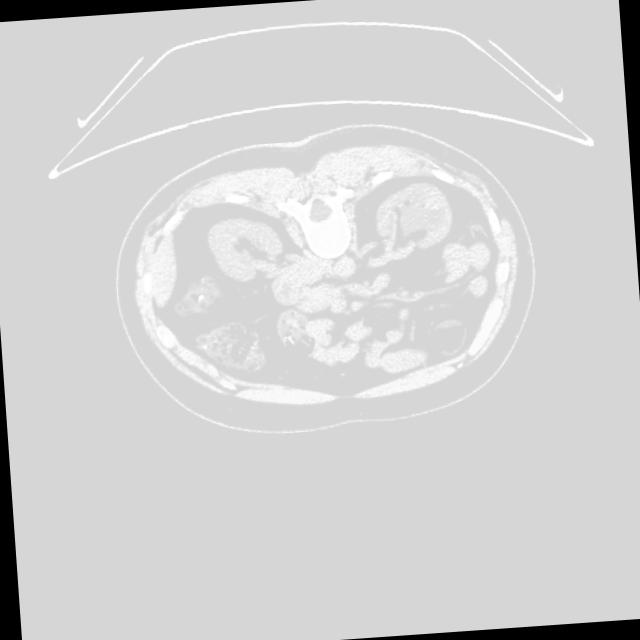cysts: (172, 207, 491, 389)
